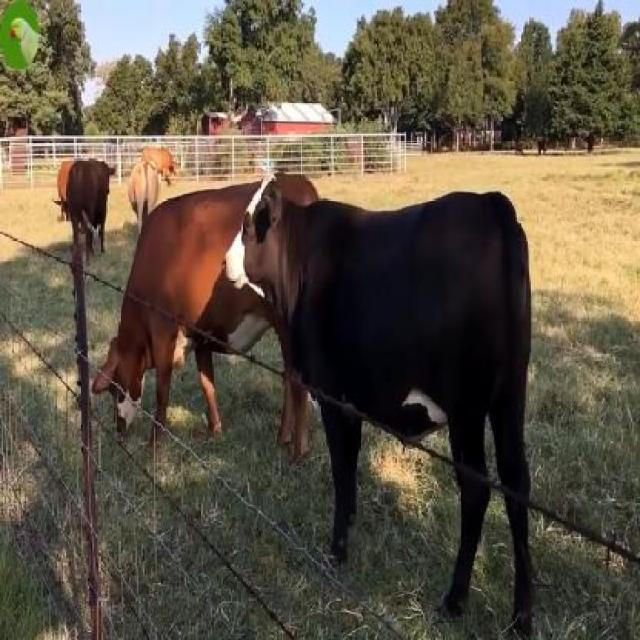Cow: (223, 171, 531, 635)
